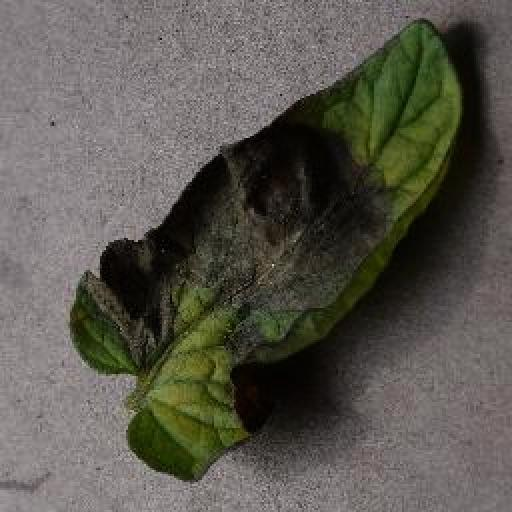disease_tomato: (68, 12, 464, 488)
